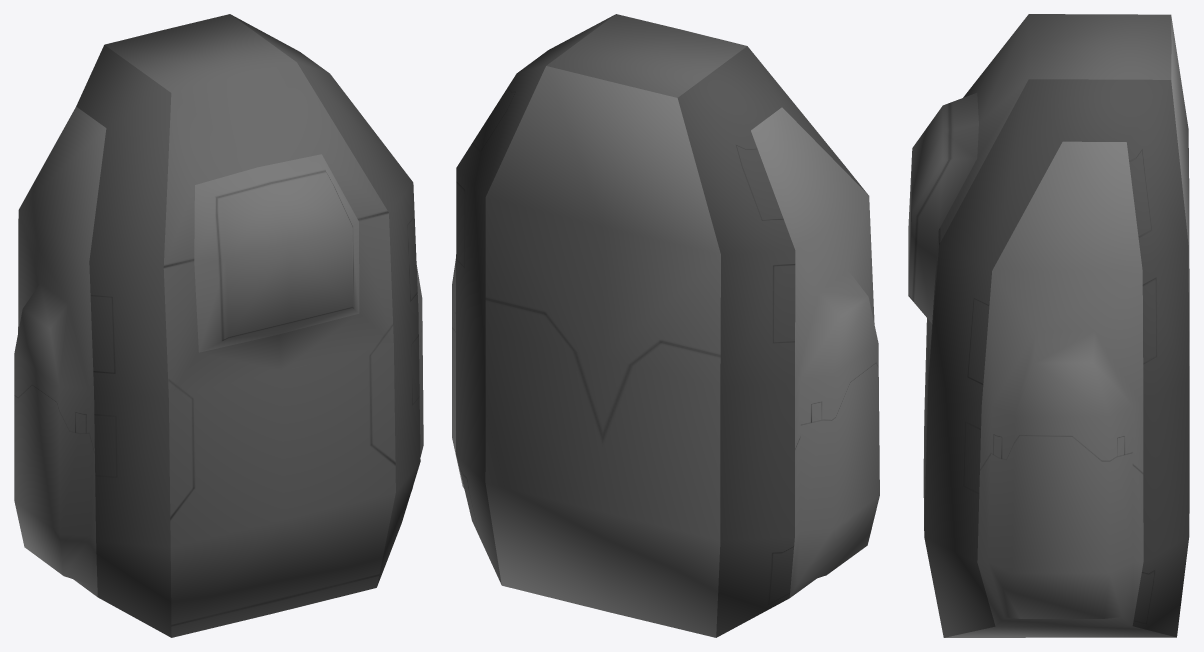
File: Model_Prop_CryoPod.fbx
3 renders of one model, left to right at view 1: azimuth 30°, elevation 25°; view 2: azimuth 150°, elevation 25°; view 3: azimuth 270°, elevation 25°, orthographic. The views are drawn at different scales.
Visible parts, largest first — view 1: Cube.139; view 2: Cube.139; view 3: Cube.139.
Part boxes in pixels (x1,y1,x2,y2): Cube.139: (14, 14, 423, 637); Cube.139: (452, 14, 879, 637); Cube.139: (908, 14, 1189, 637).
Size of the model in its own units: 2.95 by 3.93 by 1.86.
